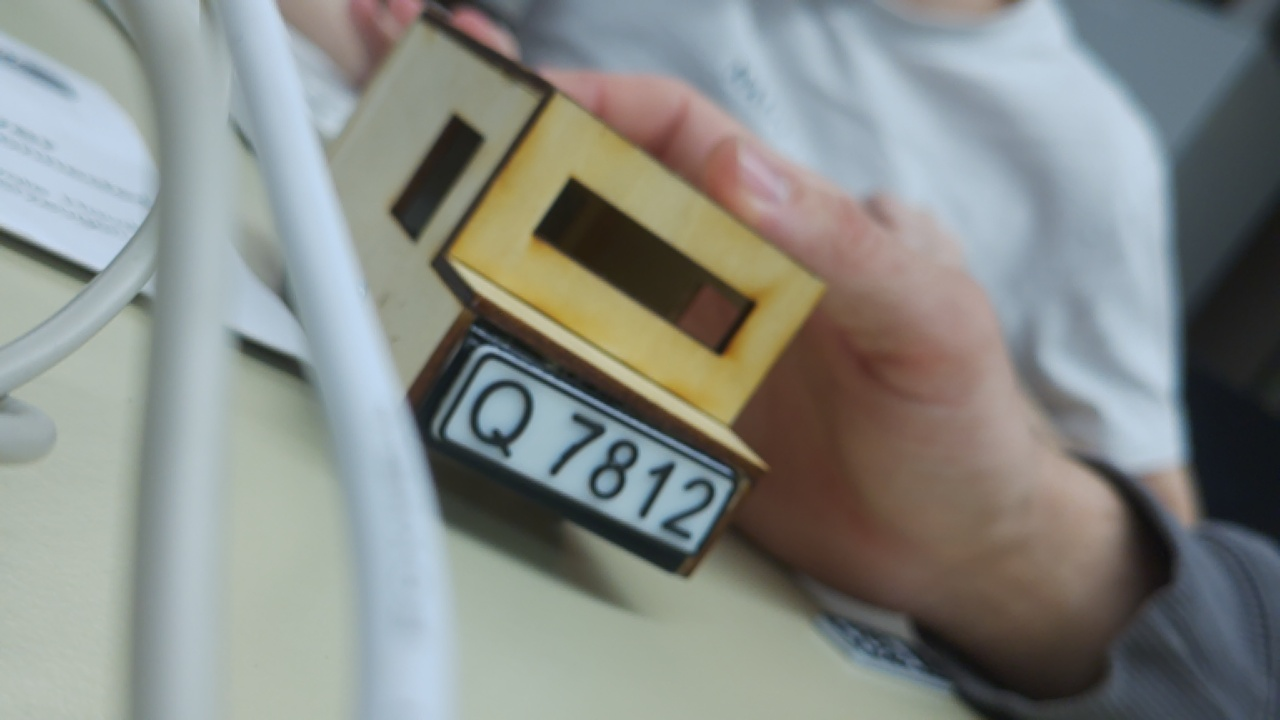license_plate: (419, 340, 742, 572)
